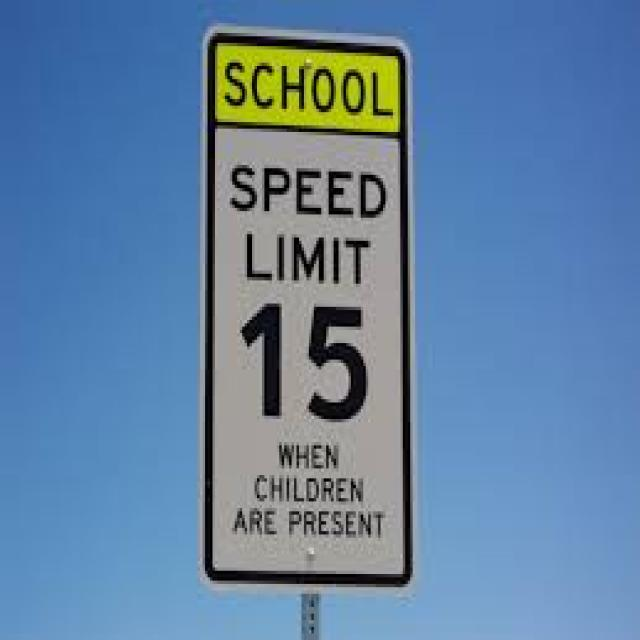speedLimit15: (196, 121, 419, 437)
